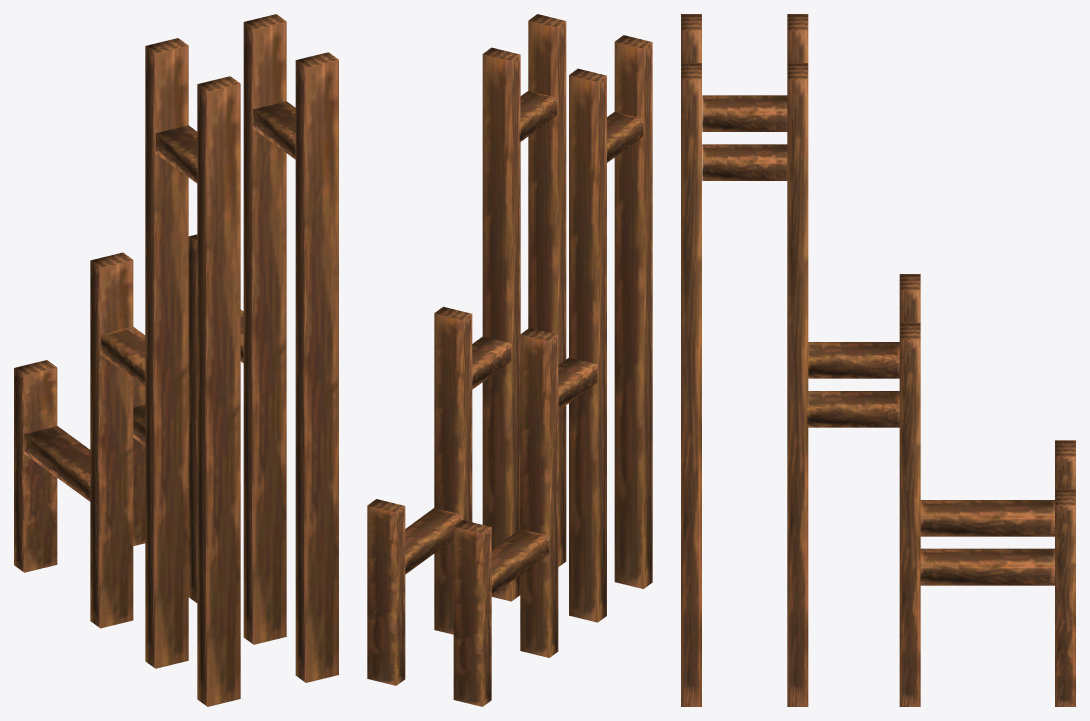
Rendered from INST_SWORDLIGHT_PLATC.fbx.
3 views of the same model, side by side, from view 1: azimuth 30°, elevation 25°; view 2: azimuth 150°, elevation 25°; view 3: azimuth 270°, elevation 25° (orthographic). The views are drawn at different scales.
Parts seen in each view (by area): view 1: INST_SWORDLIGHT_PLATC; view 2: INST_SWORDLIGHT_PLATC; view 3: INST_SWORDLIGHT_PLATC.
Part boxes in pixels (x1=…): INST_SWORDLIGHT_PLATC: x1=14, y1=14, x2=338, y2=706; INST_SWORDLIGHT_PLATC: x1=367, y1=14, x2=652, y2=706; INST_SWORDLIGHT_PLATC: x1=681, y1=14, x2=1075, y2=706.
Size of the model in its own units: 8569 by 38404 by 21903.
1 material, 1 textured.
